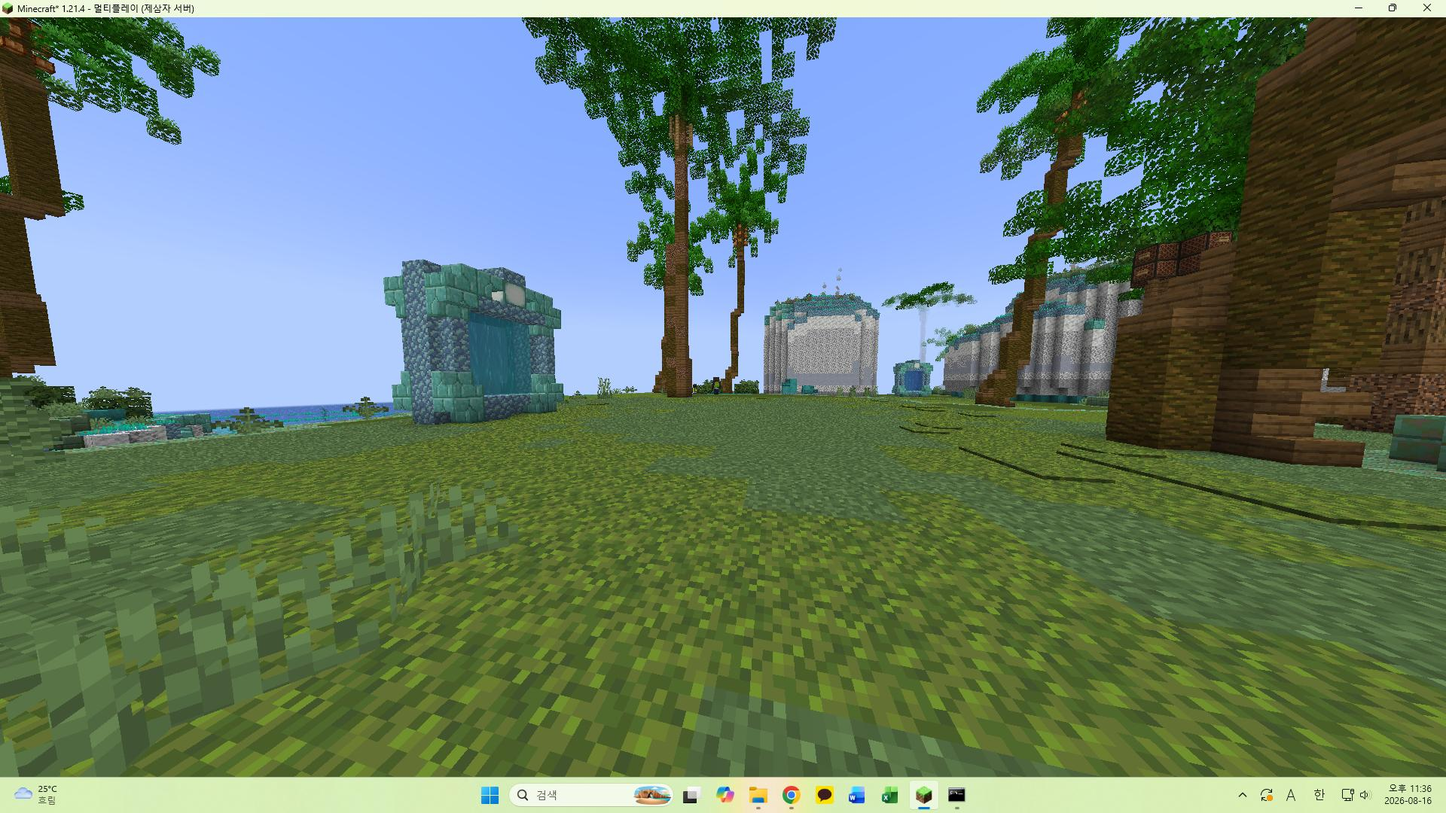Guardian: (711, 377, 720, 394)
